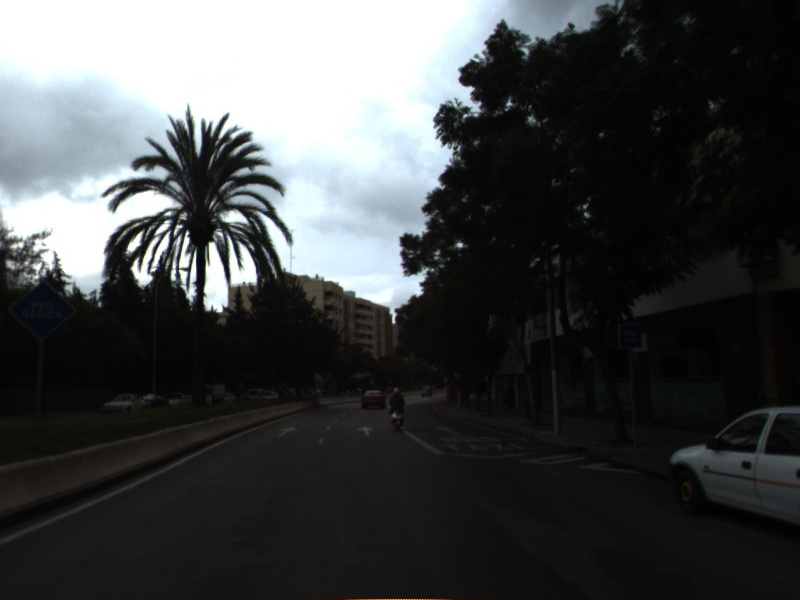STRAIGHT: (435, 423, 462, 437), (276, 424, 299, 438), (356, 424, 376, 438)
